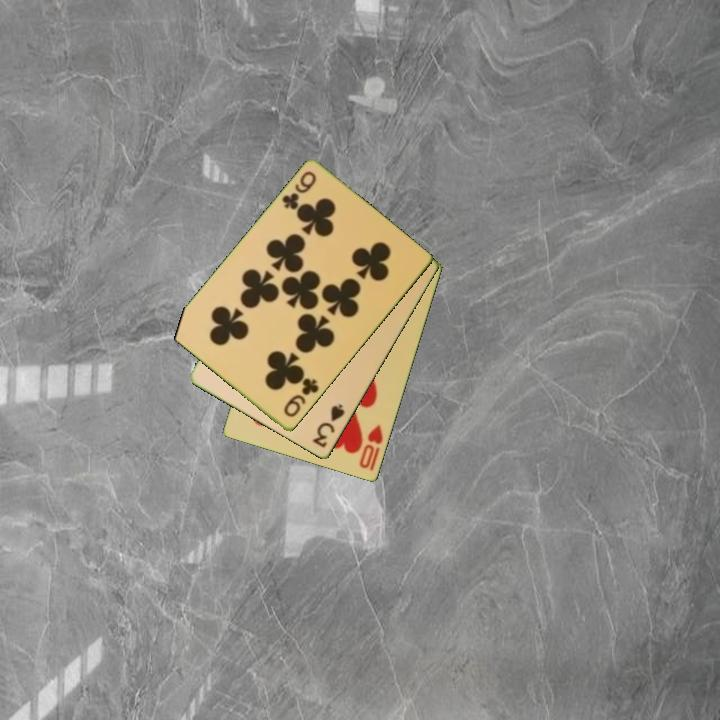10h: (356, 421, 386, 474)
3s: (309, 401, 348, 451)
9c: (280, 375, 322, 421), (278, 168, 319, 213)
